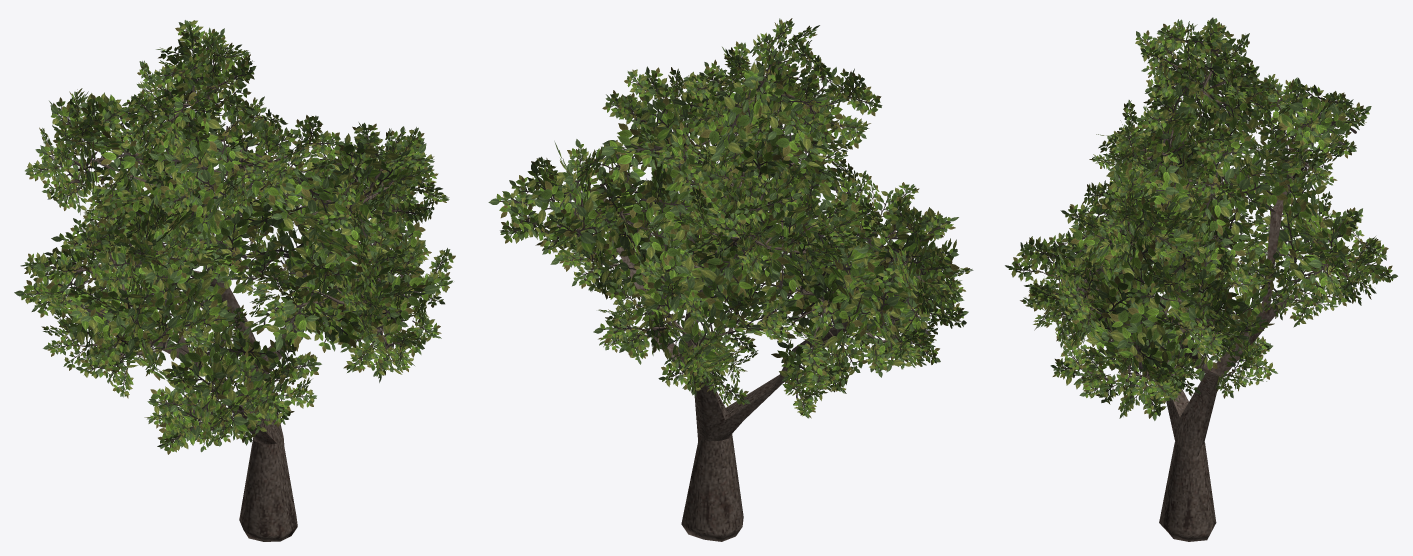
Rendered from urban_tree_mid.glb.
3 views of the same model, side by side, from view 1: azimuth 30°, elevation 25°; view 2: azimuth 150°, elevation 25°; view 3: azimuth 270°, elevation 25° (orthographic). The views are drawn at different scales.
Parts seen in each view (by area): view 1: crown merged_normal leaves_0, trunk_low_trunk_0, br_low_trunk_0; view 2: crown merged_normal leaves_0, trunk_low_trunk_0, br_low_trunk_0; view 3: crown merged_normal leaves_0, trunk_low_trunk_0, br_low_trunk_0.
Part boxes in pixels (box(x1,y1,x2,y2)): crown merged_normal leaves_0: box(14, 20, 455, 454); trunk_low_trunk_0: box(98, 164, 385, 541); br_low_trunk_0: box(67, 63, 423, 424); crown merged_normal leaves_0: box(488, 18, 973, 418); trunk_low_trunk_0: box(608, 221, 862, 541); br_low_trunk_0: box(547, 67, 929, 393); crown merged_normal leaves_0: box(1005, 17, 1397, 420); trunk_low_trunk_0: box(1146, 159, 1301, 541); br_low_trunk_0: box(1040, 59, 1351, 381).
Bounding box in the file's own units: 0.8938 × 0.9998 × 0.7303.
3 materials, 3 textured.
